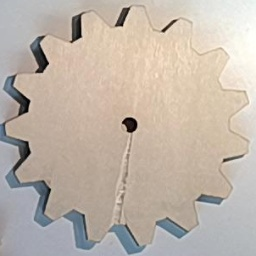Crack: (104, 131, 136, 225)
